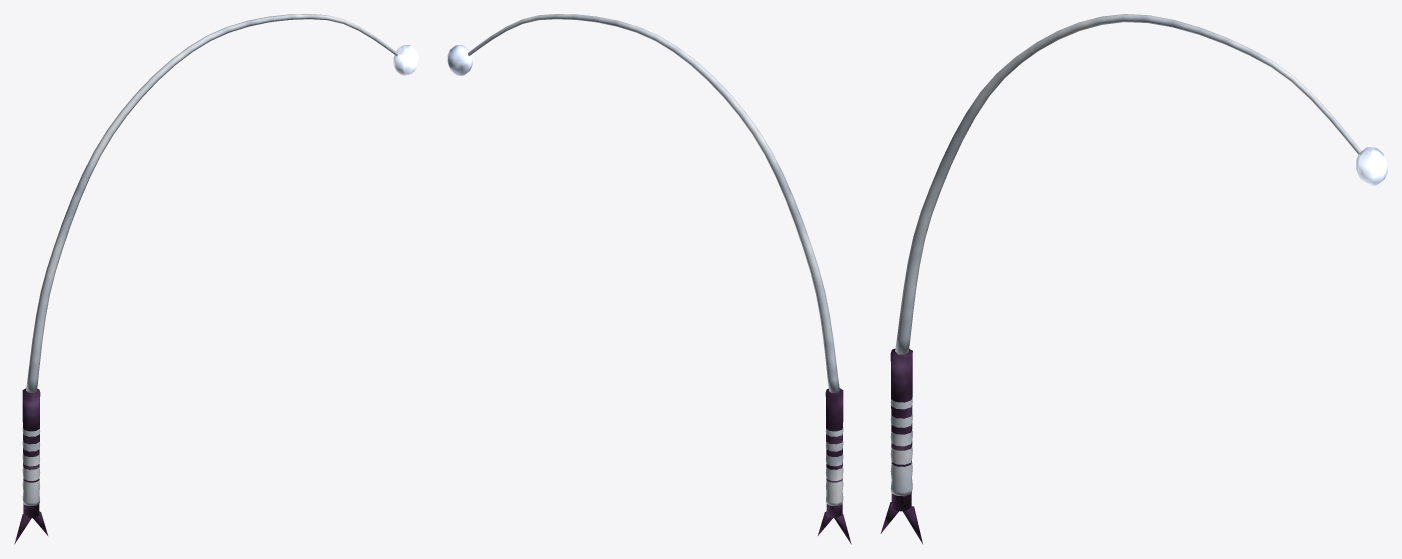
Rendered from MoonsilkWhip.fbx.
3 renders of one model, left to right at view 1: azimuth 30°, elevation 25°; view 2: azimuth 150°, elevation 25°; view 3: azimuth 330°, elevation 25°, orthographic. The views are drawn at different scales.
Parts seen in each view (by area): view 1: MoonsilkWhip; view 2: MoonsilkWhip; view 3: MoonsilkWhip.
Boxes of the visible parts, left/top/right/bottom form: MoonsilkWhip: left=14, top=14, right=418, bottom=544; MoonsilkWhip: left=447, top=14, right=851, bottom=544; MoonsilkWhip: left=880, top=14, right=1387, bottom=543.
Bounding box in the file's own units: 1.02 × 1.13 × 0.0468.
